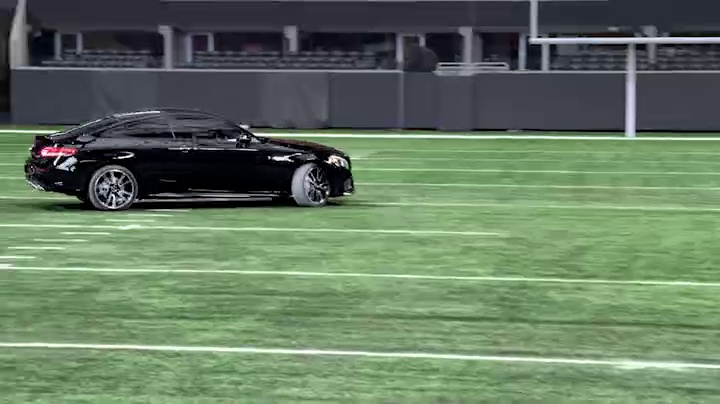amg: (29, 106, 357, 207)
